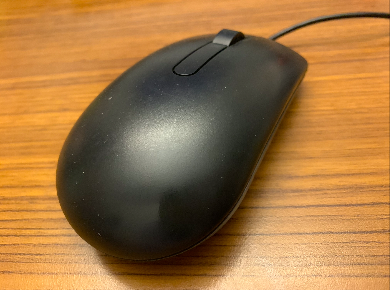object_name: (62, 31, 282, 257)
